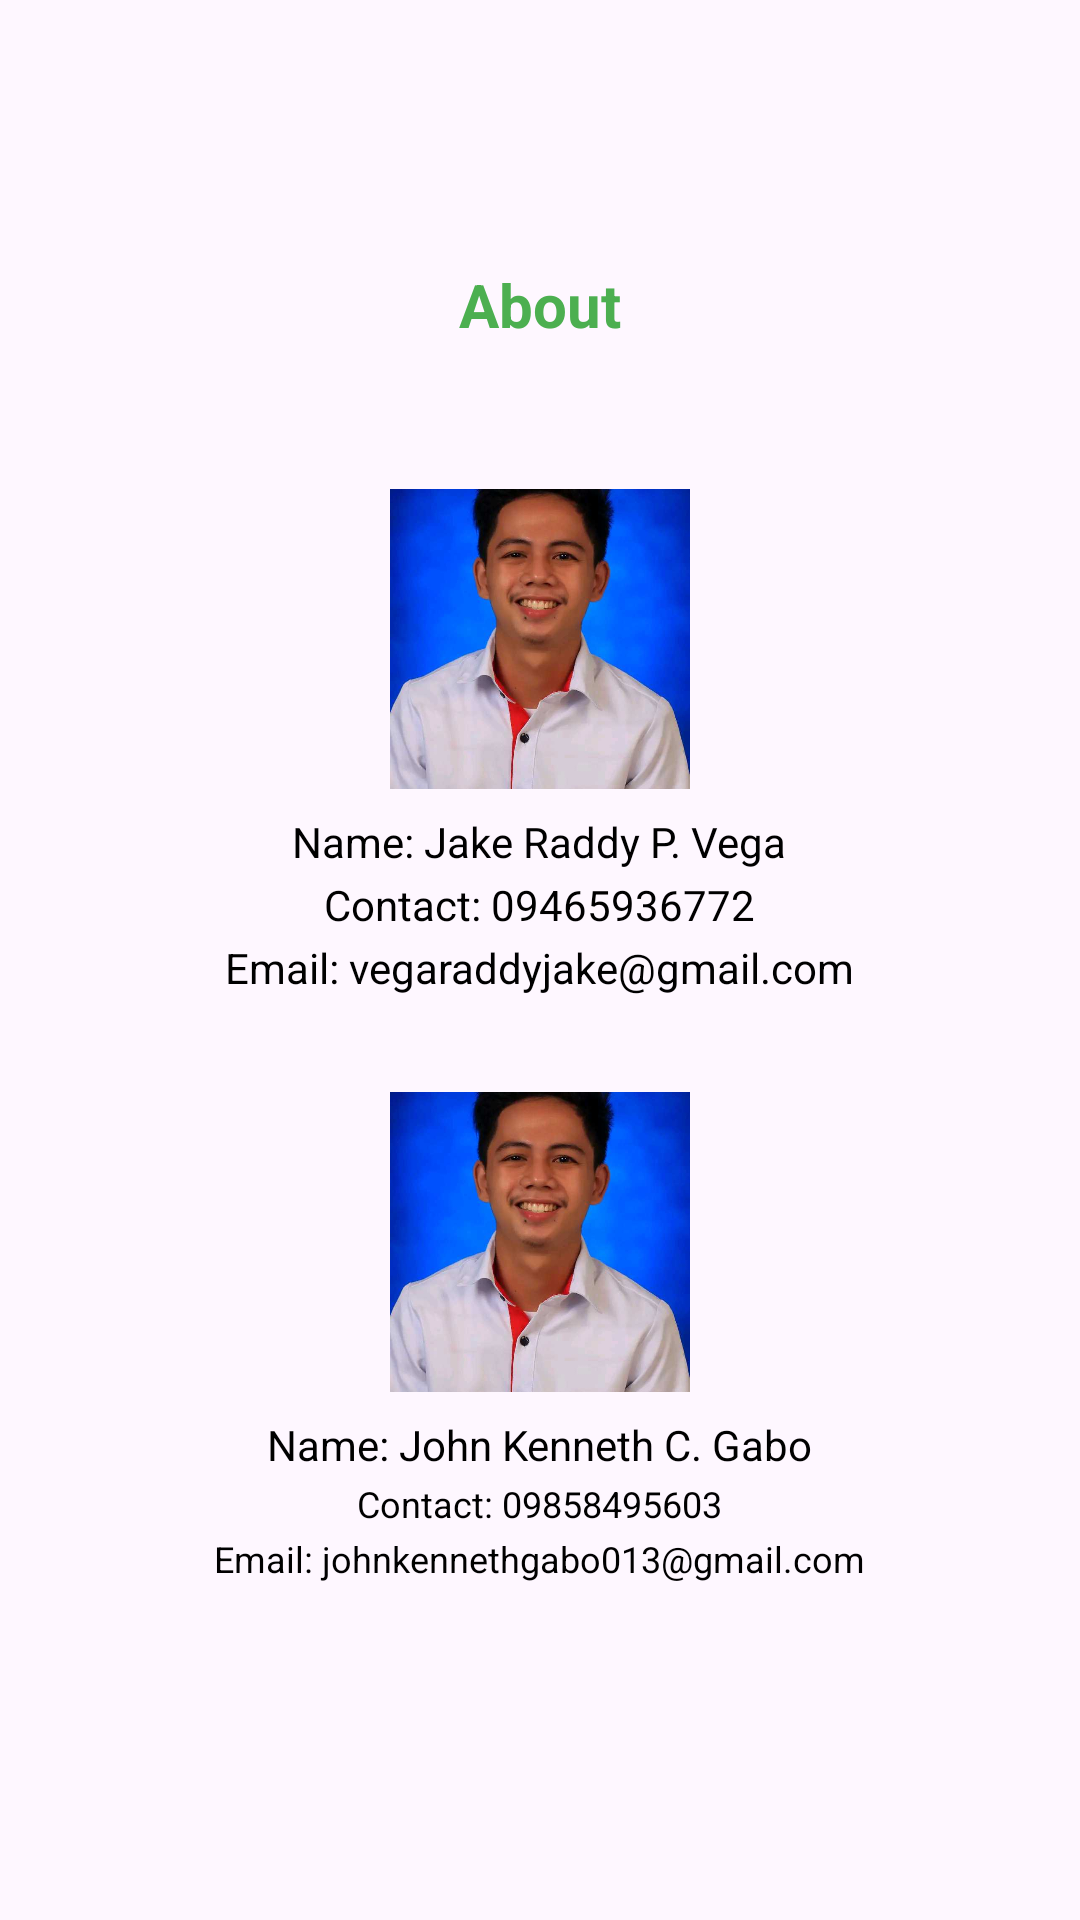

Icon click points for this 1080×1920 phone screenshot, format point (x, y):
Profile Picture: point (540, 639), point (540, 1242)
